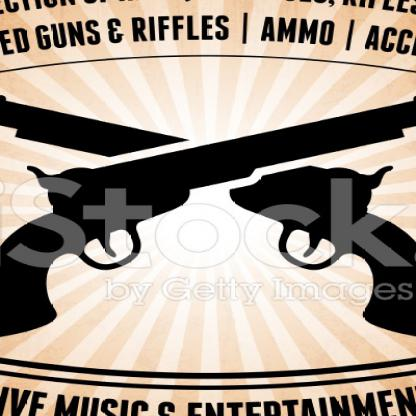gun: (0, 93, 415, 337)
